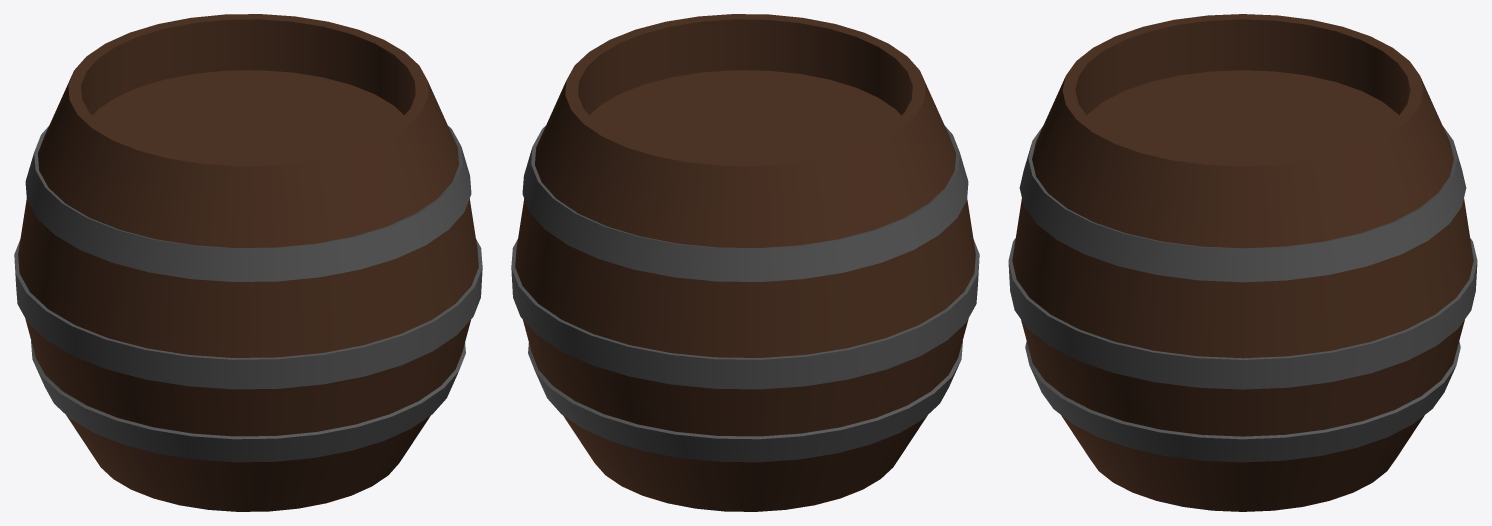
Rendered from Barile L 1.fbx.
3 renders of one model, left to right at view 1: azimuth 30°, elevation 25°; view 2: azimuth 150°, elevation 25°; view 3: azimuth 270°, elevation 25°, orthographic.
Visible parts, largest first — view 1: S. Barrel 1.003; view 2: S. Barrel 1.003; view 3: S. Barrel 1.003.
Part boxes in pixels (x1,y1,x2,y2): S. Barrel 1.003: (14,14,482,511); S. Barrel 1.003: (511,14,979,511); S. Barrel 1.003: (1008,14,1477,511).
Bounding box in the file's own units: 117 × 97.68 × 117.
